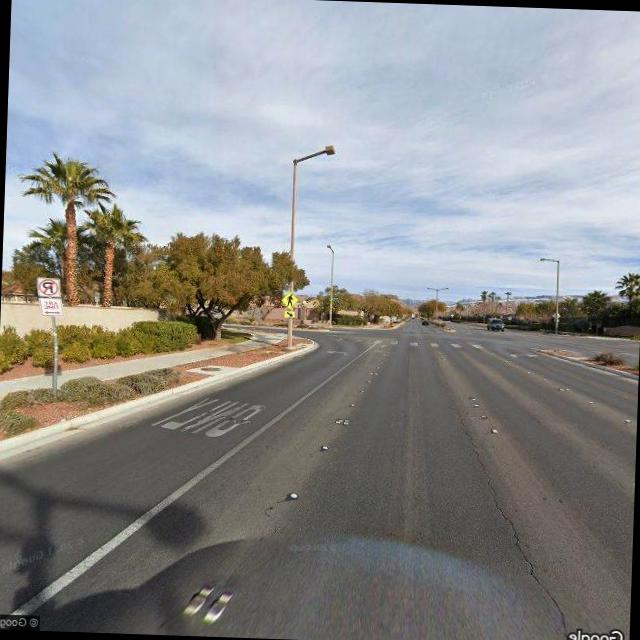pothole: (454, 420, 580, 623)
